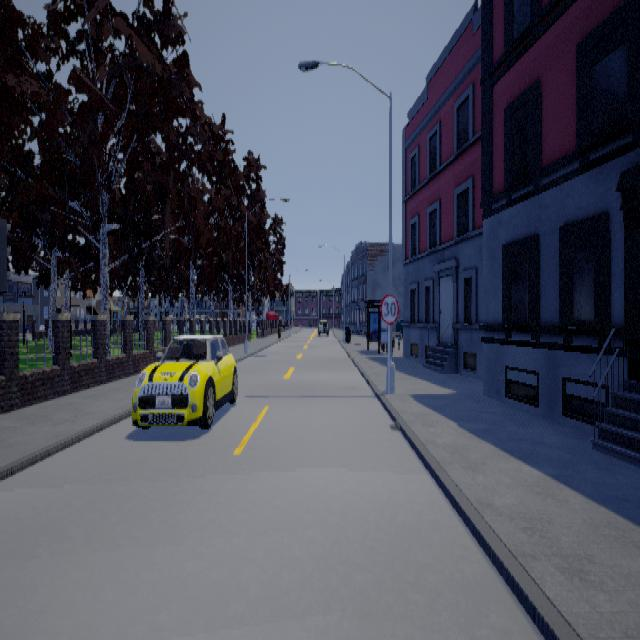traffic_sign: (379, 293, 398, 323)
vehicle: (130, 333, 237, 428), (317, 315, 327, 337)
